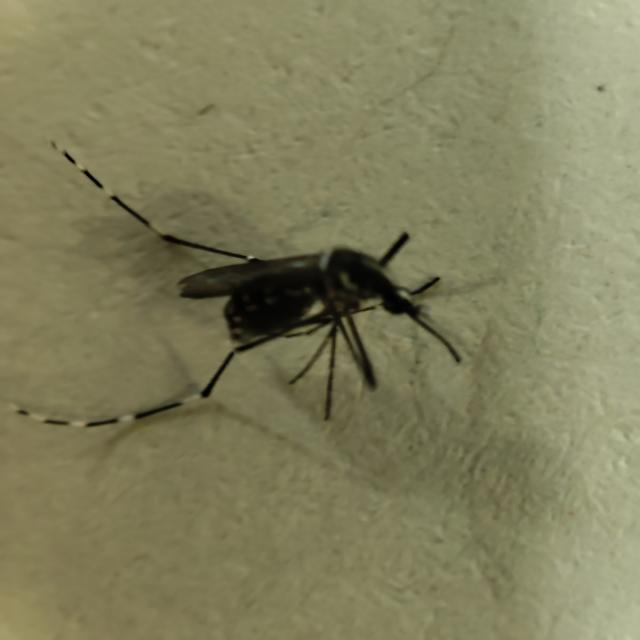albopictus: (19, 130, 474, 447)
